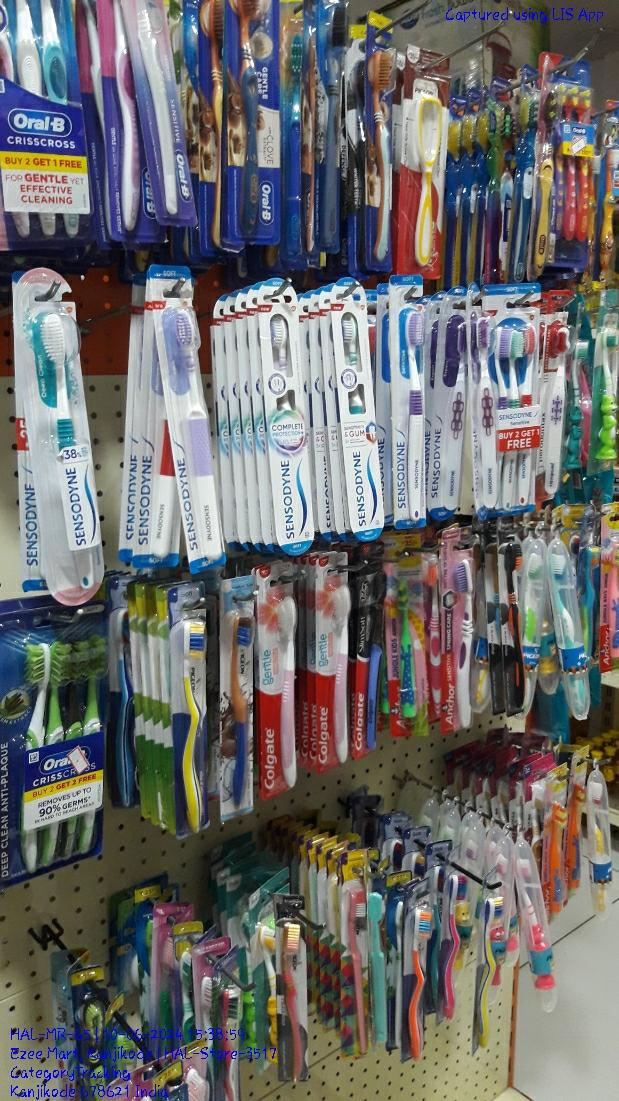soap: (354, 553, 382, 760)
